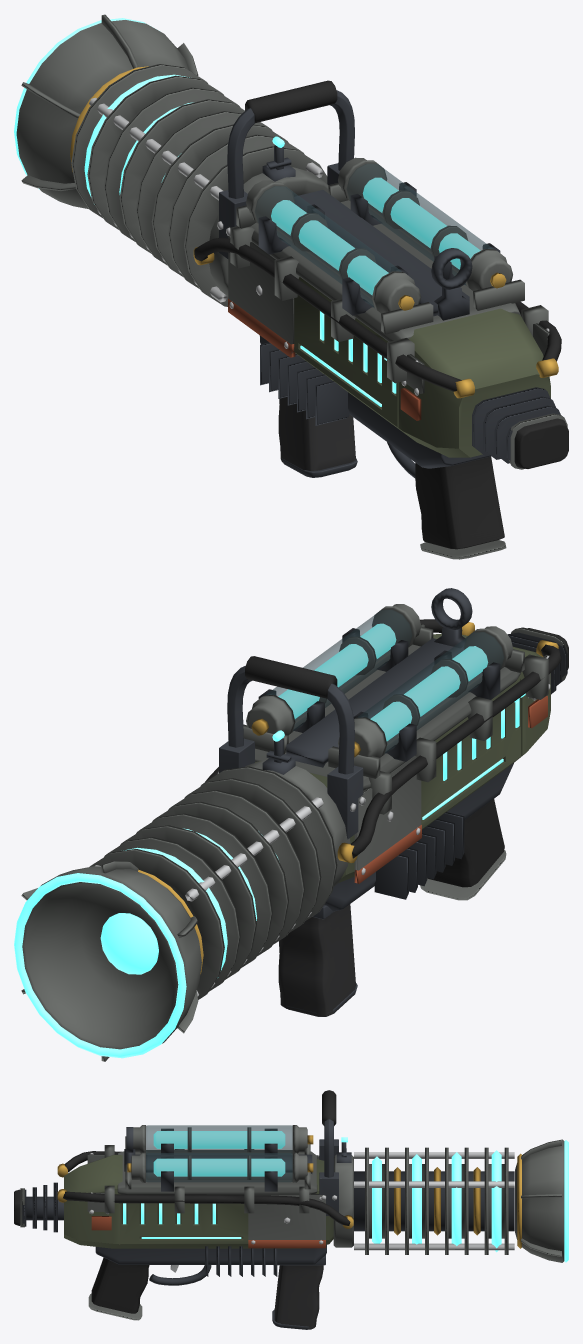
File: vm_disruptor.glb
3 renders of one model, top to bottom at view 1: azimuth 30°, elevation 25°; view 2: azimuth 150°, elevation 25°; view 3: azimuth 270°, elevation 25°, orthographic. The views are drawn at different scales.
Visible parts, largest first — view 1: body_steel_park, body_steel_blued, body_paint_olive, body_rubber, dish, cell_0, cell_1, body_polymer, body_steel_bare, body_bakelite, vents, body_brass (+2 smaller); view 2: body_steel_park, body_steel_blued, dish, body_rubber, cell_0, cell_1, body_polymer, body_paint_olive, dish_rim, dish_core, body_steel_bare, body_bakelite (+3 smaller); view 3: body_steel_park, body_steel_blued, body_paint_olive, body_rubber, dish, cell_1, cell_0, body_steel_bare, body_polymer, body_bakelite, coil_3, coil_2 (+5 smaller).
Boxes of the visible parts, x1=… form: body_steel_park: x1=71, y1=64, x2=567, y2=559; body_steel_blued: x1=219, y1=90, x2=560, y2=478; body_paint_olive: x1=294, y1=277, x2=550, y2=457; body_rubber: x1=194, y1=80, x2=568, y2=549; dish: x1=16, y1=14, x2=198, y2=208; cell_0: x1=246, y1=180, x2=421, y2=313; cell_1: x1=338, y1=157, x2=512, y2=290; body_polymer: x1=278, y1=397, x2=355, y2=473; body_steel_bare: x1=89, y1=97, x2=549, y2=395; body_bakelite: x1=228, y1=298, x2=421, y2=420; vents: x1=300, y1=311, x2=396, y2=406; body_brass: x1=193, y1=247, x2=558, y2=398; body_steel_park: x1=89, y1=624, x2=567, y2=999; body_steel_blued: x1=219, y1=588, x2=567, y2=1016; dish: x1=21, y1=861, x2=203, y2=1061; body_rubber: x1=205, y1=619, x2=568, y2=887; cell_0: x1=338, y1=626, x2=512, y2=757; cell_1: x1=246, y1=604, x2=421, y2=735; body_polymer: x1=278, y1=904, x2=355, y2=1016; body_paint_olive: x1=255, y1=633, x2=550, y2=882; dish_rim: x1=14, y1=873, x2=186, y2=1058; dish_core: x1=100, y1=913, x2=158, y2=974; body_steel_bare: x1=95, y1=655, x2=550, y2=996; body_bakelite: x1=354, y1=696, x2=547, y2=883; body_steel_park: x1=20, y1=1136, x2=508, y2=1320; body_steel_blued: x1=22, y1=1119, x2=514, y2=1329; body_paint_olive: x1=64, y1=1154, x2=333, y2=1248; body_rubber: x1=14, y1=1090, x2=350, y2=1313; dish: x1=515, y1=1139, x2=564, y2=1262; cell_1: x1=127, y1=1152, x2=313, y2=1182; cell_0: x1=133, y1=1125, x2=313, y2=1154; body_steel_bare: x1=89, y1=1152, x2=514, y2=1272; body_polymer: x1=274, y1=1265, x2=323, y2=1328; body_bakelite: x1=91, y1=1216, x2=325, y2=1248; coil_3: x1=491, y1=1150, x2=501, y2=1252; coil_2: x1=451, y1=1152, x2=461, y2=1245.
Size of the model in its own units: 0.1255 by 0.2447 by 0.5565.
